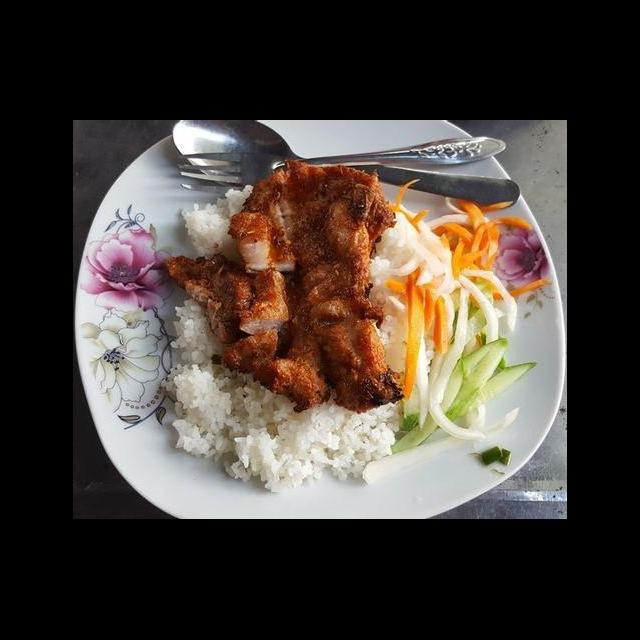com: (100, 239, 258, 392), (136, 187, 353, 257), (384, 201, 490, 270)
com suon: (79, 166, 567, 519)
dua chua: (166, 370, 497, 505)
suon: (200, 190, 522, 391)
